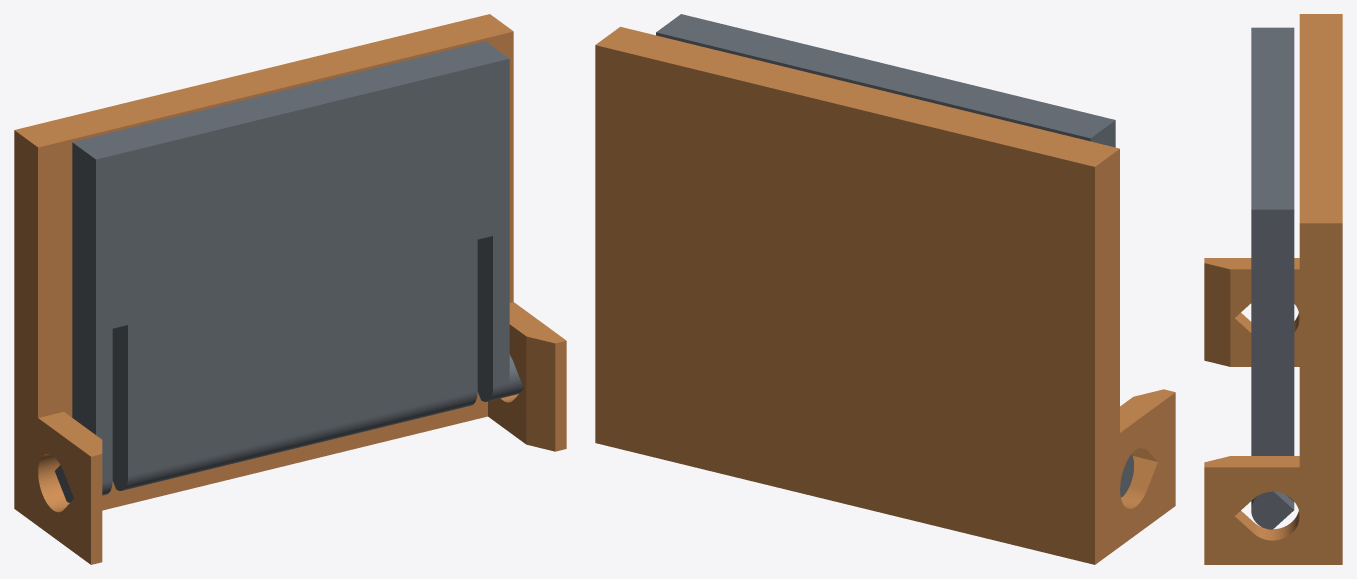
3 renders of one model, left to right at view 1: azimuth 30°, elevation 25°; view 2: azimuth 150°, elevation 25°; view 3: azimuth 270°, elevation 25°, orthographic. The views are drawn at different scales.
Parts seen in each view (by area): view 1: couvercle, base; view 2: base, couvercle; view 3: base, couvercle.
Boxes of the visible parts, x1,y1,x2,y2 form: couvercle: (55,41,523,502); base: (14,14,566,564); base: (595,26,1175,564); couvercle: (656,14,1133,497); base: (1204,14,1342,564); couvercle: (1251,27,1294,529).
Bounding box in the file's own units: 46 × 35 × 12.86.
